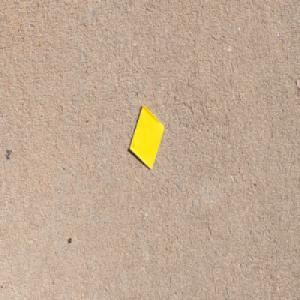PlasticPart: (128, 104, 164, 171)
